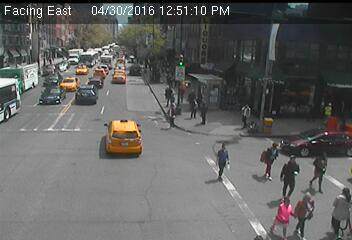neg: (196, 188, 230, 232), (60, 166, 91, 207), (109, 171, 140, 212), (214, 186, 244, 226), (110, 124, 136, 160), (101, 57, 126, 90), (181, 32, 204, 61), (80, 73, 100, 100), (55, 47, 74, 73), (256, 39, 275, 64), (315, 103, 333, 128), (220, 41, 238, 65), (35, 56, 52, 79), (159, 24, 176, 46), (44, 88, 60, 109), (134, 36, 149, 56), (40, 22, 55, 42), (123, 63, 138, 83), (103, 25, 116, 44), (76, 31, 89, 49), (4, 84, 15, 100), (207, 73, 218, 89), (143, 66, 150, 76)
pos: (273, 153, 310, 203), (323, 184, 351, 236), (290, 193, 323, 237), (305, 149, 338, 192), (265, 194, 297, 237), (207, 141, 237, 181), (253, 139, 282, 178), (163, 101, 184, 129), (237, 101, 256, 127), (195, 100, 213, 124), (185, 95, 203, 118), (160, 83, 178, 106)
